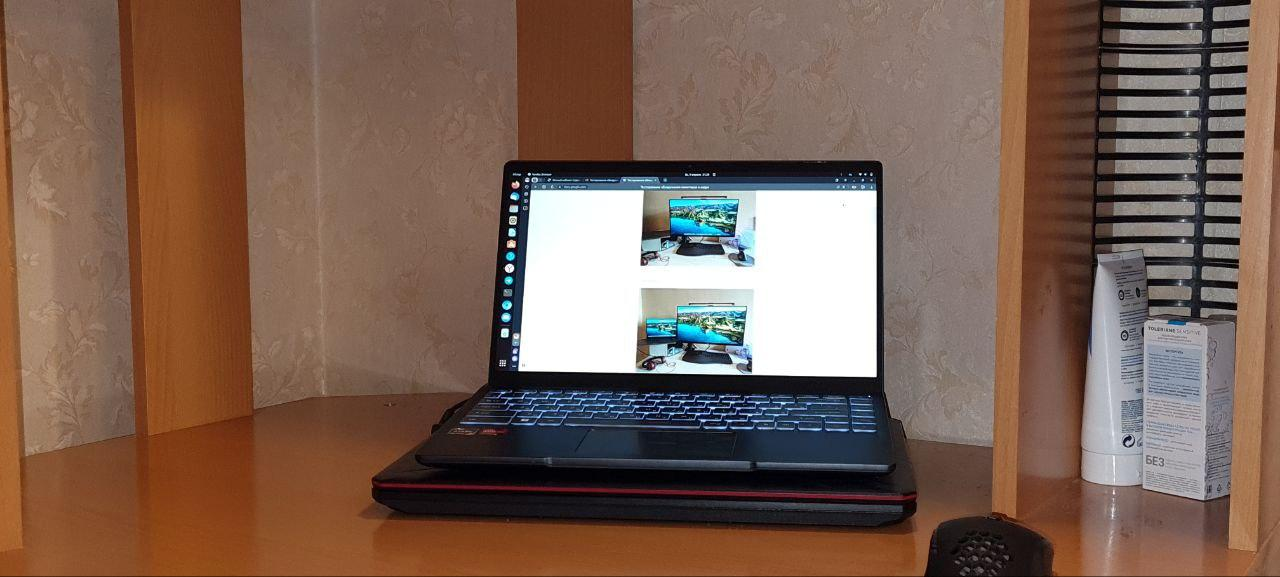monitor: (483, 156, 889, 398)
